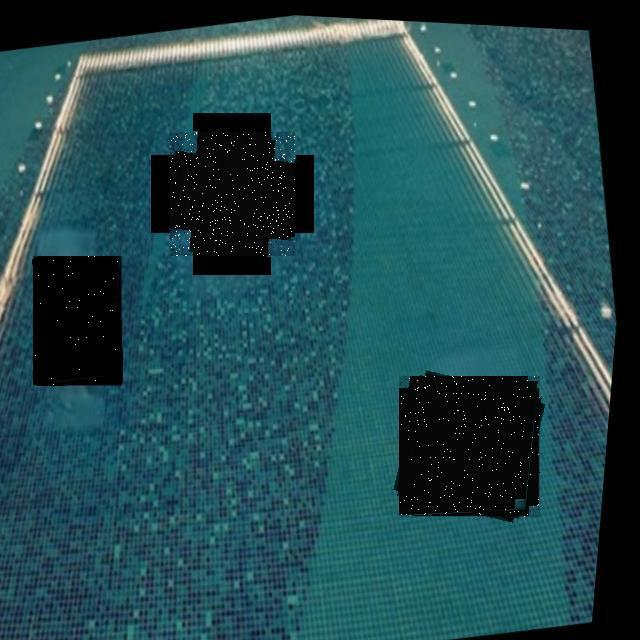swimming: (399, 376, 540, 517), (170, 132, 295, 256), (33, 256, 122, 386)
